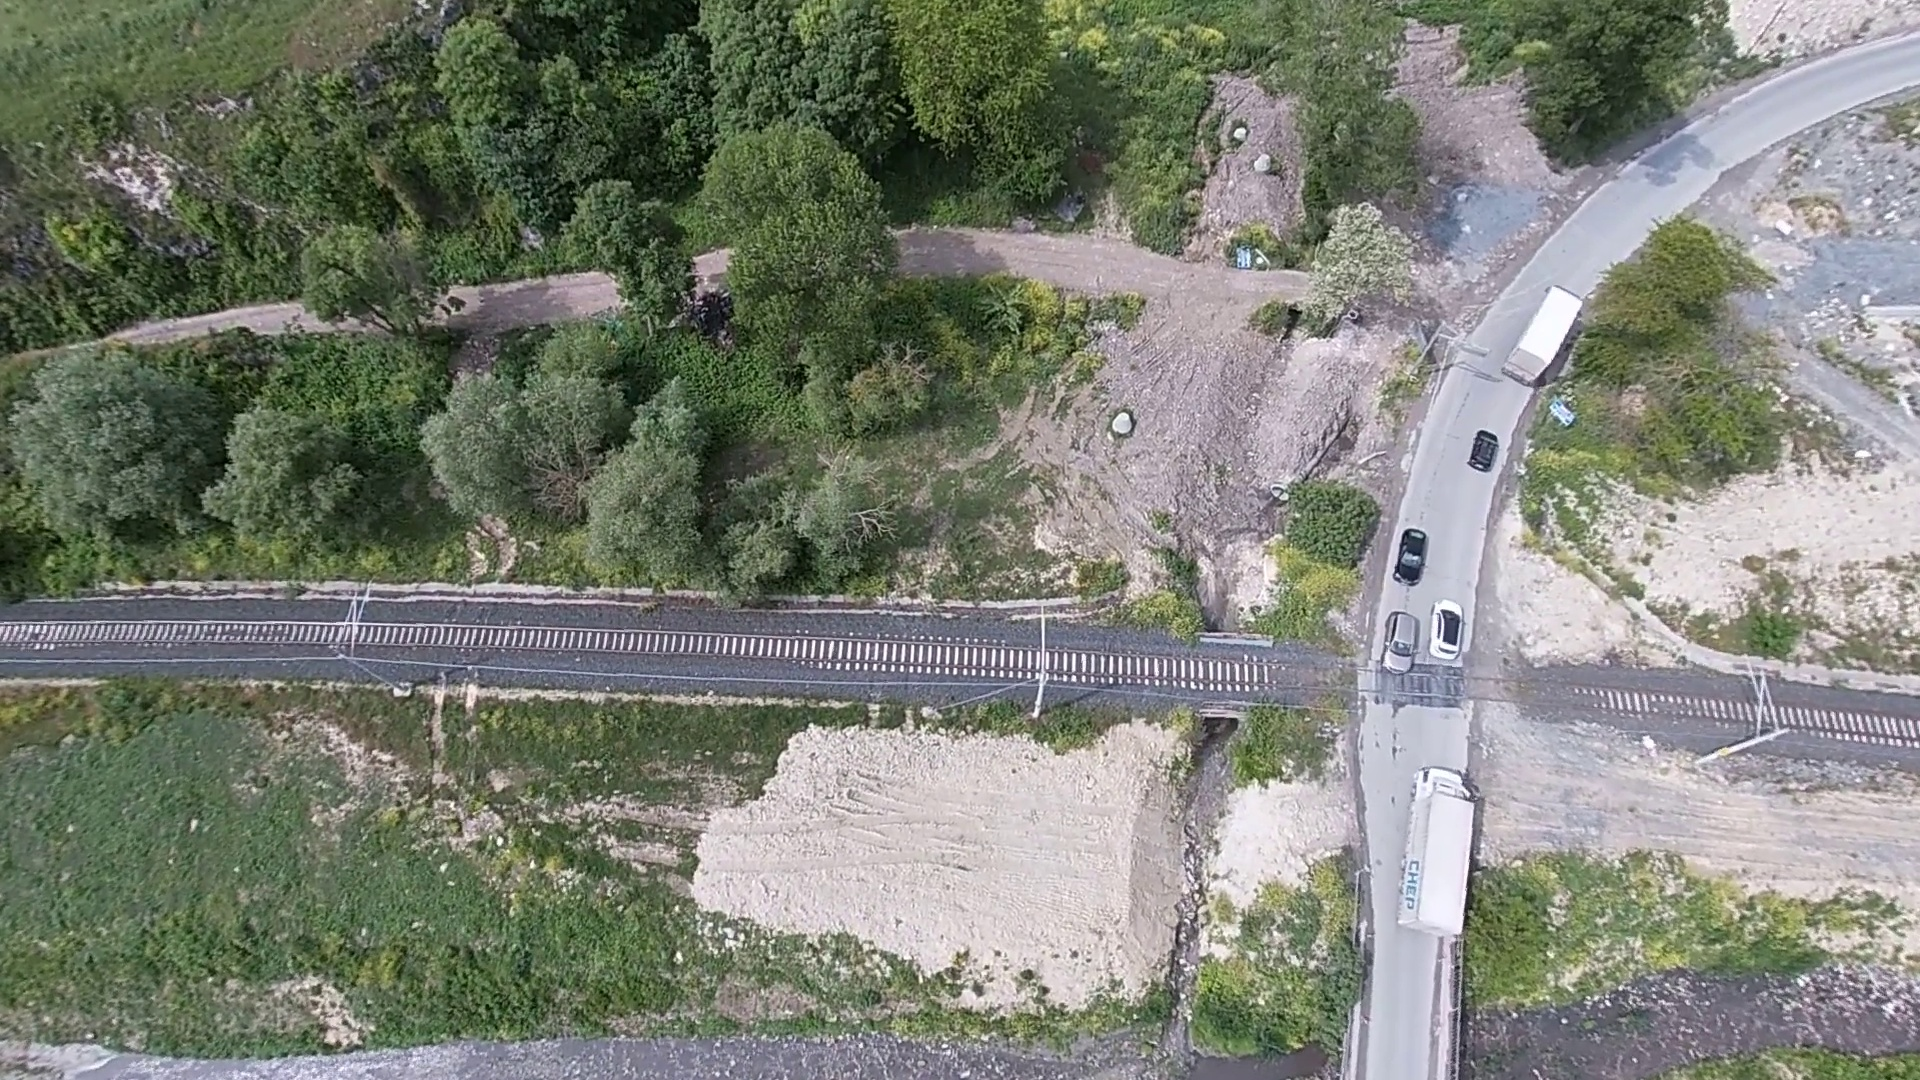arac: (1387, 752, 1487, 948), (1501, 276, 1580, 396), (1375, 609, 1433, 678), (1391, 521, 1439, 591), (1425, 593, 1469, 662), (1466, 427, 1514, 477)
